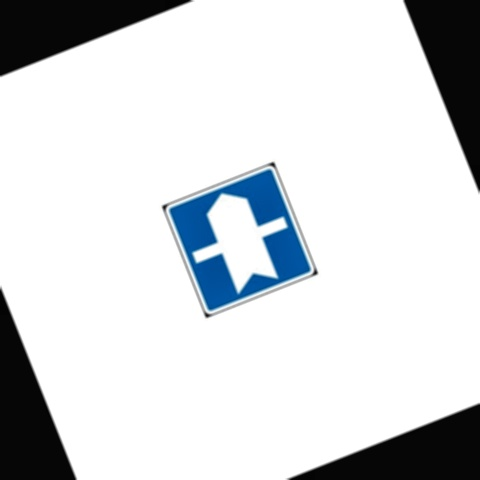Japan_Priority road: (79, 75, 401, 404)
